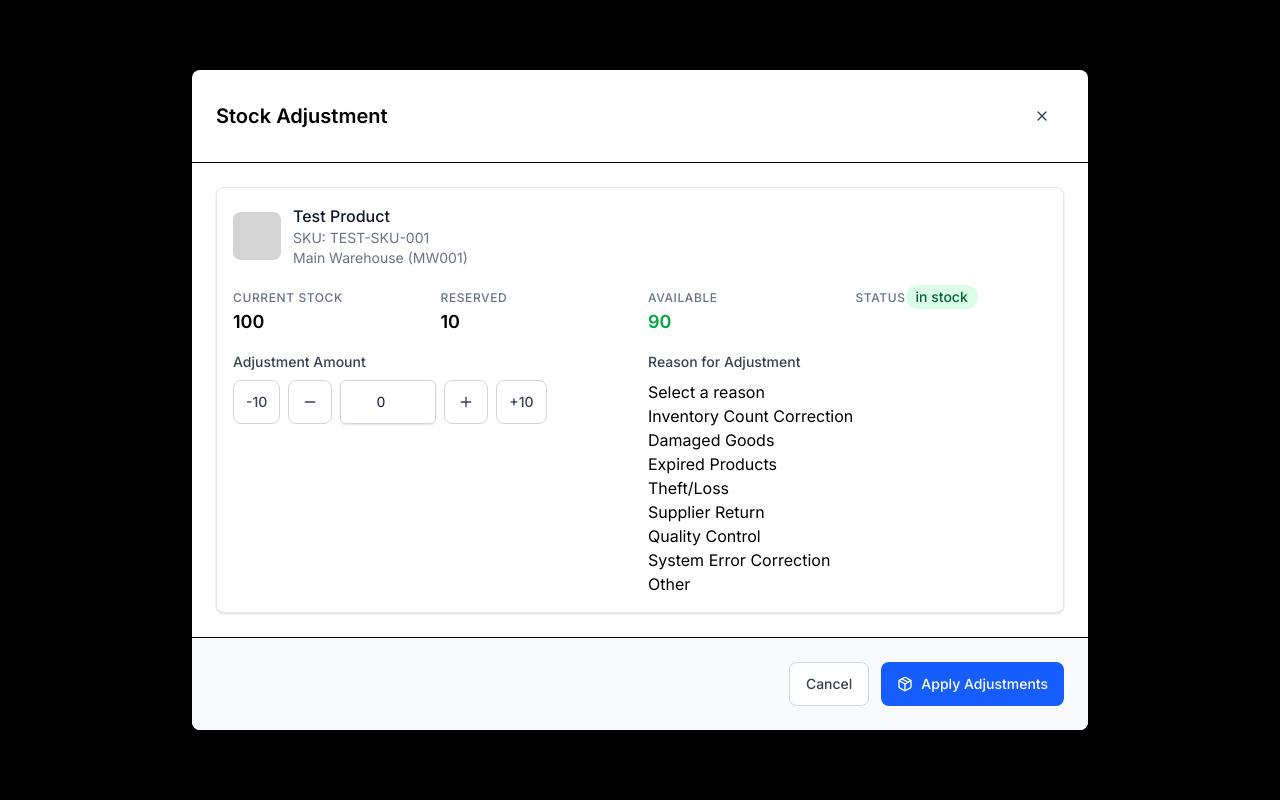
StockAdjustmentModal › validates required reason field
Note: Set adjustment amount
Replace the text in the number field showing "0" with "10": (388, 402) [340,380,436,424]
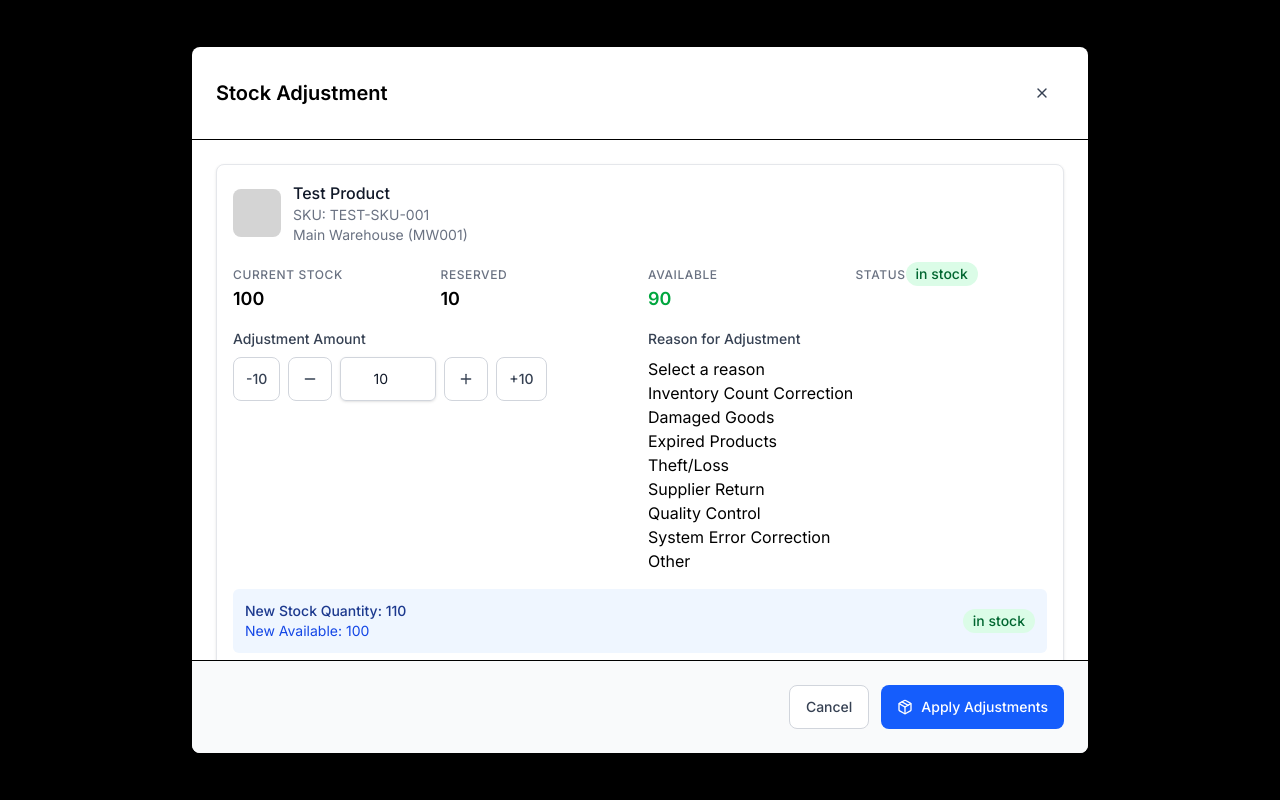
Note: Try to submit without reason
Click the button "Apply Adjustments": (973, 707) [881,685,1064,729]
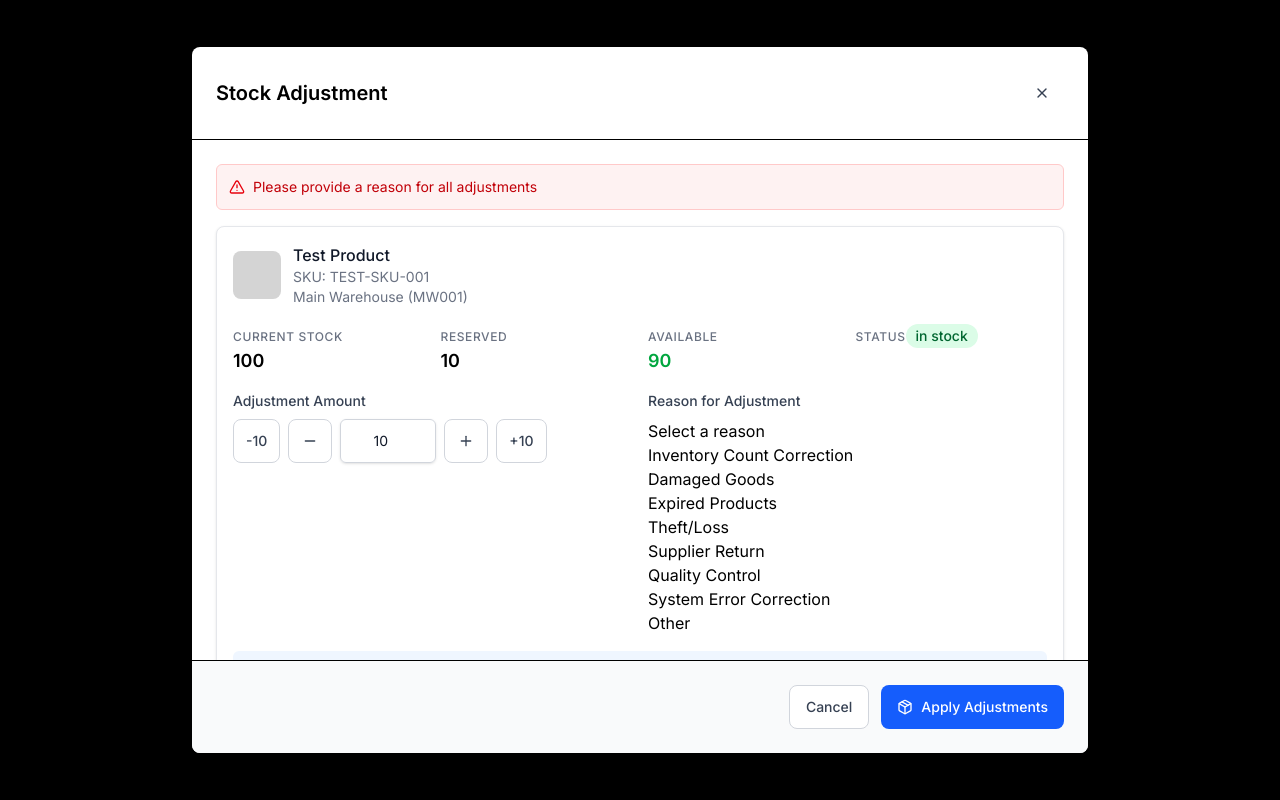
Expected: the text "Please provide a reason for all adjustments" is shown, [253,177,537,197]
